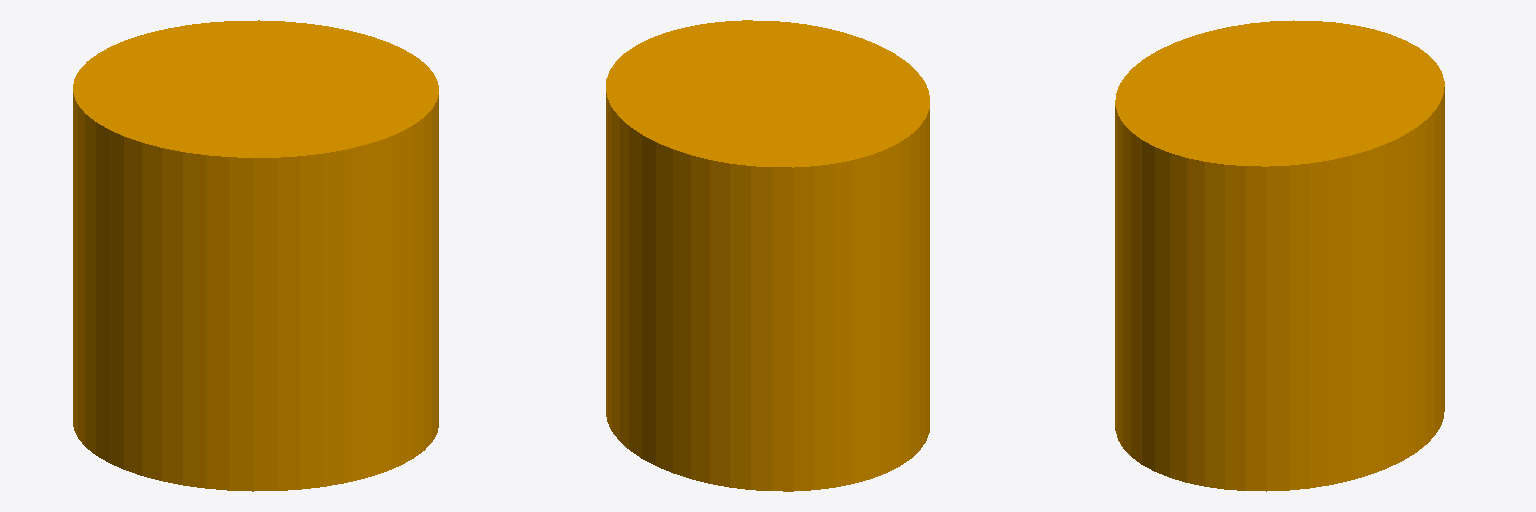
robot.urdf — object:
<?xml version="1.0"?>
<robot name="object">
  <link name="object">
    <visual>
      <origin xyz="0 0 0"/>
      <geometry>
        <mesh filename="meshes/generated/col_088.obj" scale="0.03 0.03 0.03"/>
      </geometry>
    </visual>
    <collision>
      <origin xyz="0 0 0"/>
      <geometry>
        <mesh filename="meshes/generated/col_088.obj" scale="0.03 0.03 0.03"/>
      </geometry>
    </collision>
    <inertial>
      <density value="1000.0"/>
    </inertial>
  </link>
</robot>

--- Render facts (derived) ---
The picture shows the robot from 3 angles, left to right: view 1: azimuth 30°, elevation 25°; view 2: azimuth 150°, elevation 25°; view 3: azimuth 270°, elevation 25°; orthographic projection.
Robot: object — 1 links, 0 joints (none); root link object; default pose: all joints at 0.
Links seen in each view (by area): view 1: object; view 2: object; view 3: object.
Link boxes in pixels (x1=…): object: x1=73, y1=20, x2=438, y2=491; object: x1=606, y1=20, x2=929, y2=491; object: x1=1115, y1=20, x2=1444, y2=491.
Size in the robot's own frame: 0.0579 by 0.0551 by 0.06 metres.
1 mesh visuals loaded from 1 distinct referenced files (1 OBJ).
